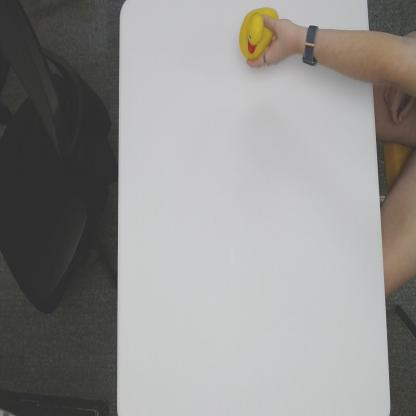Arm: (319, 26, 372, 83)
Duck: (238, 4, 280, 62)
Hand: (246, 12, 300, 70)
